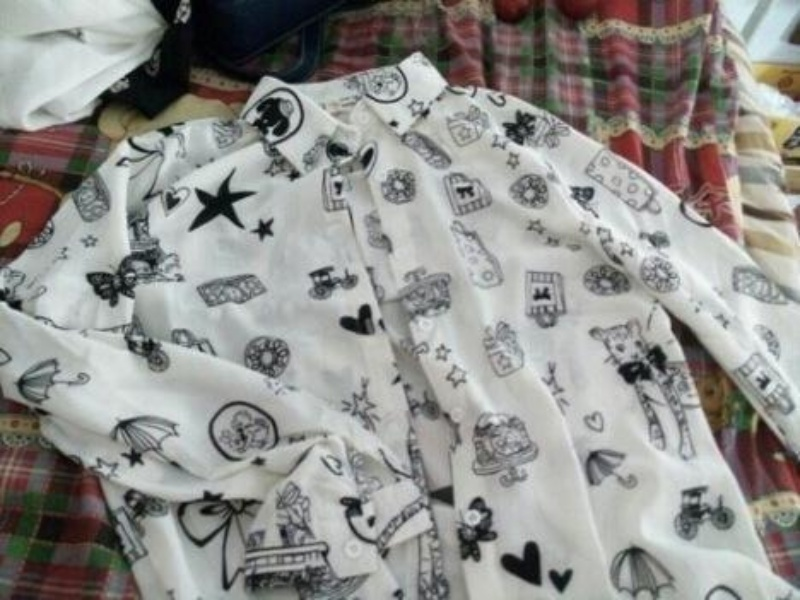long_sleeved_shirt: (2, 41, 798, 598)
